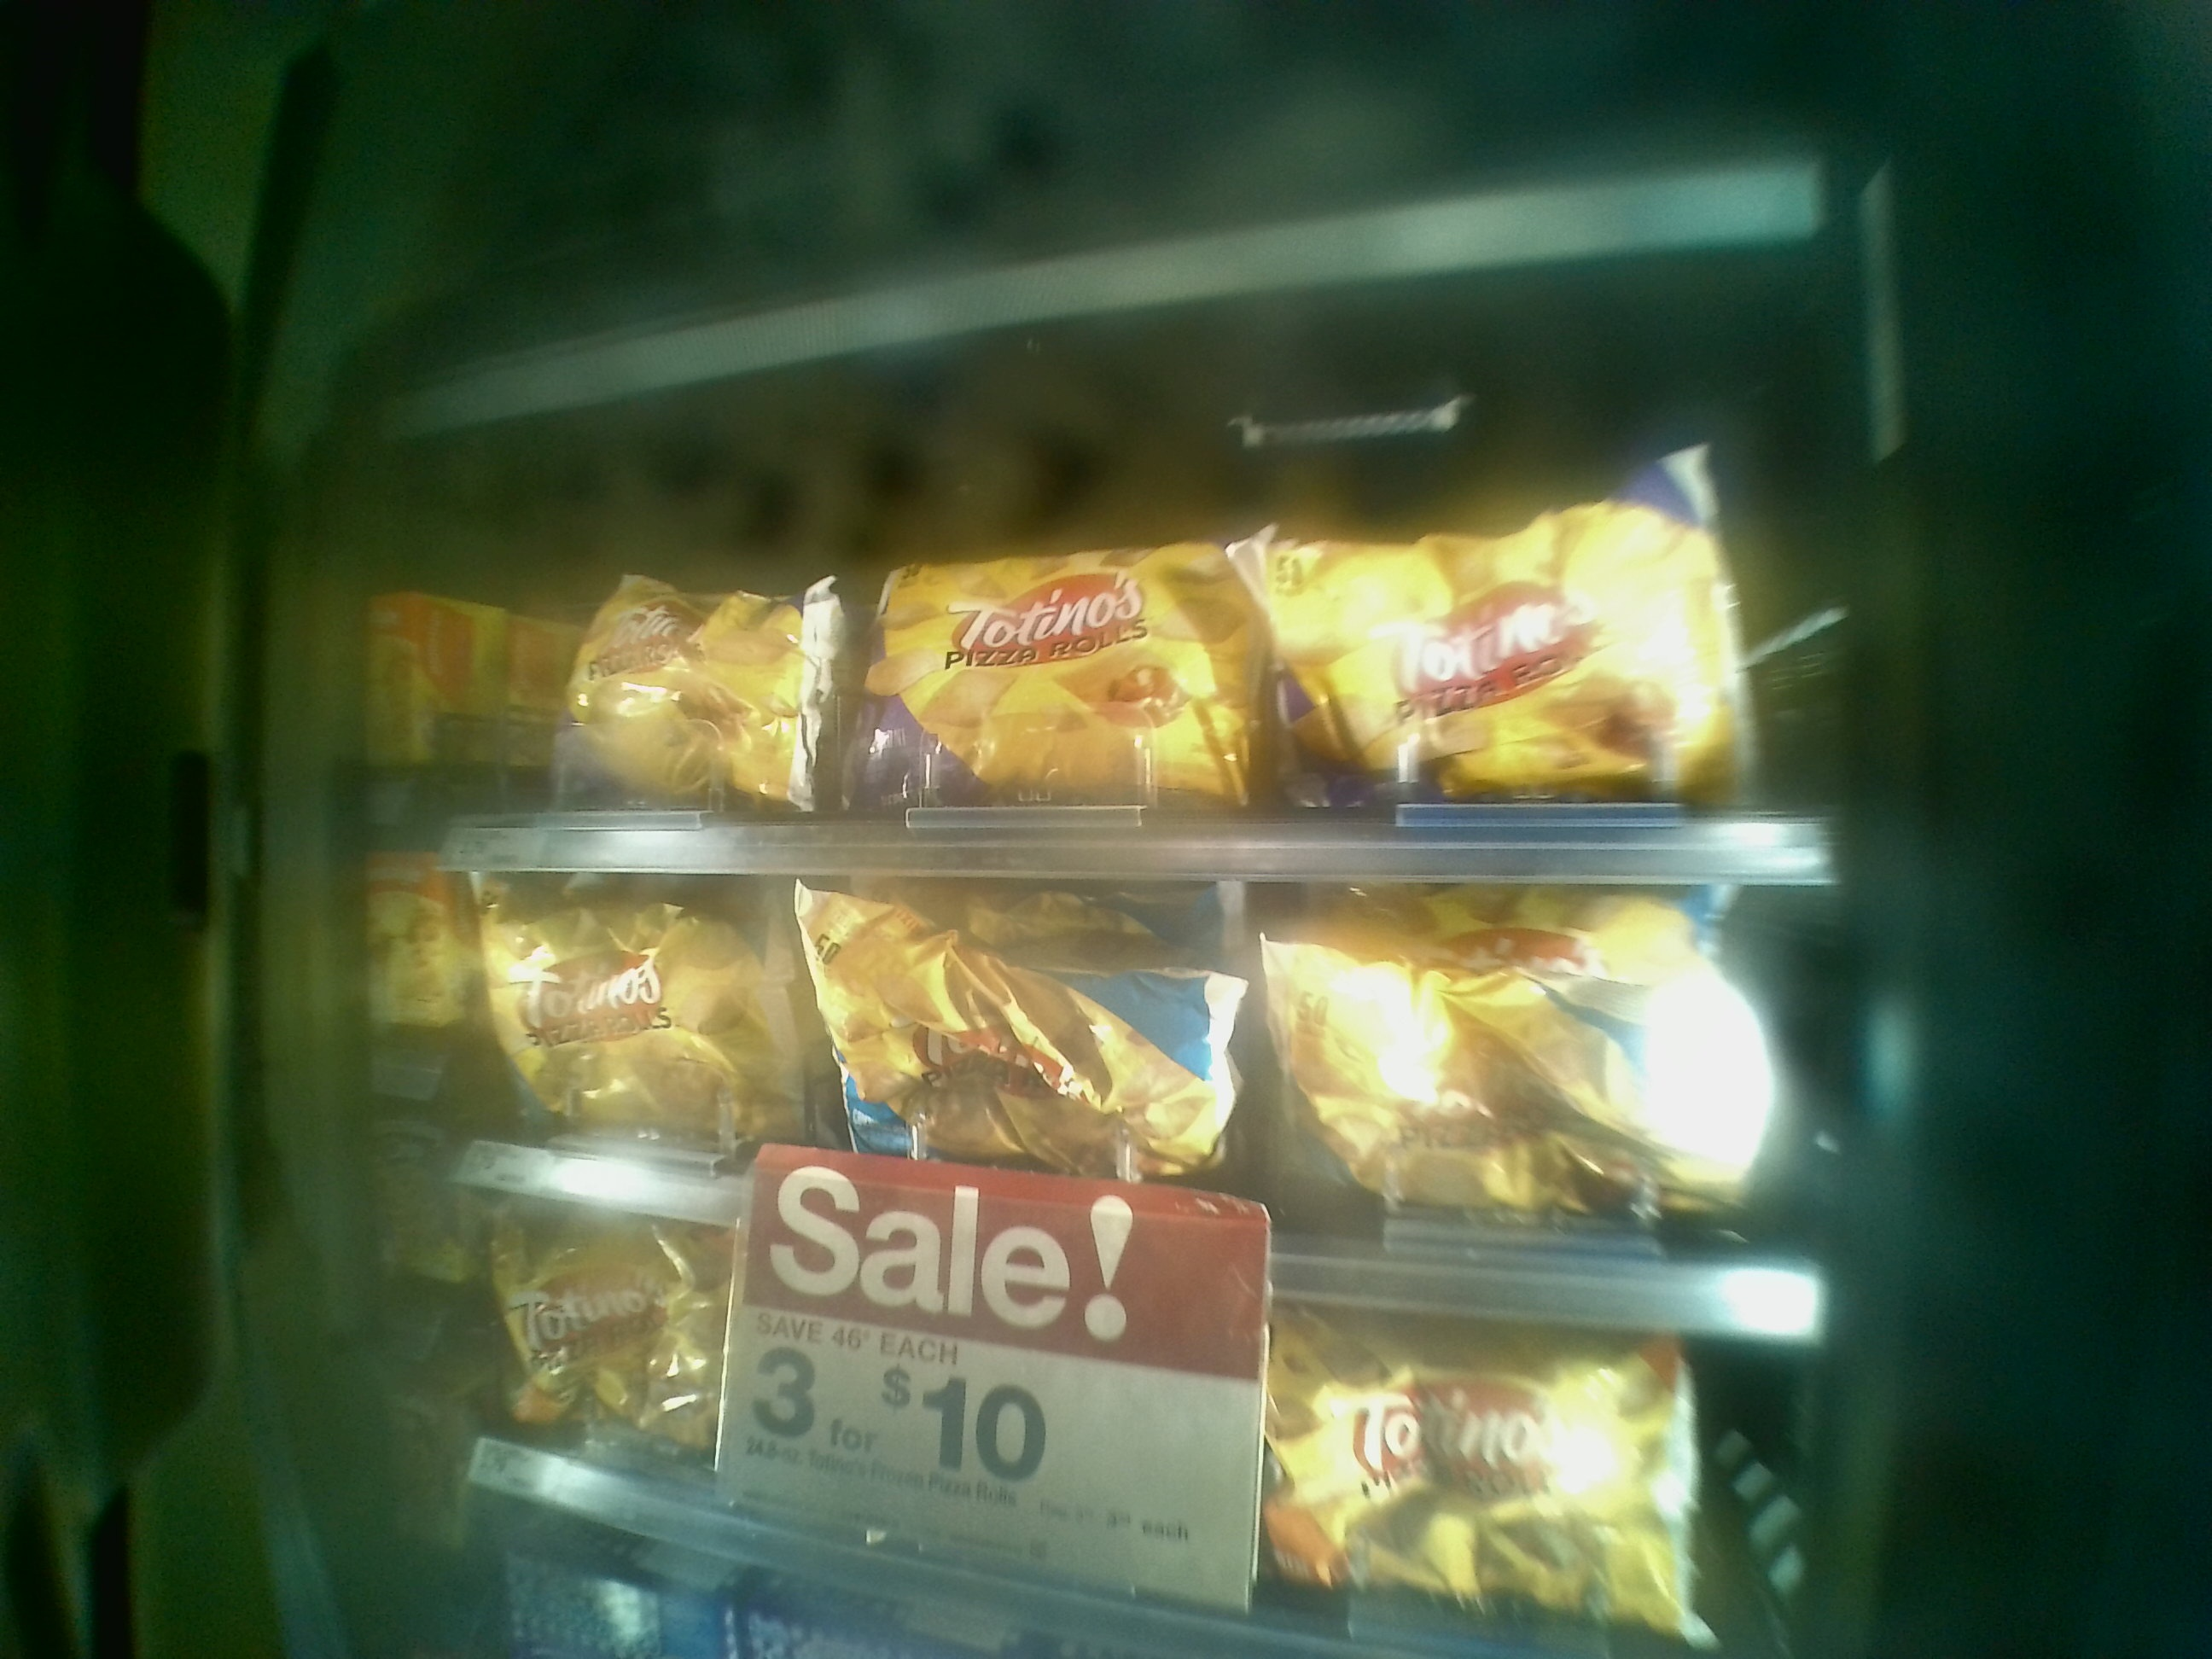shelf: (418, 852, 1825, 1330)
